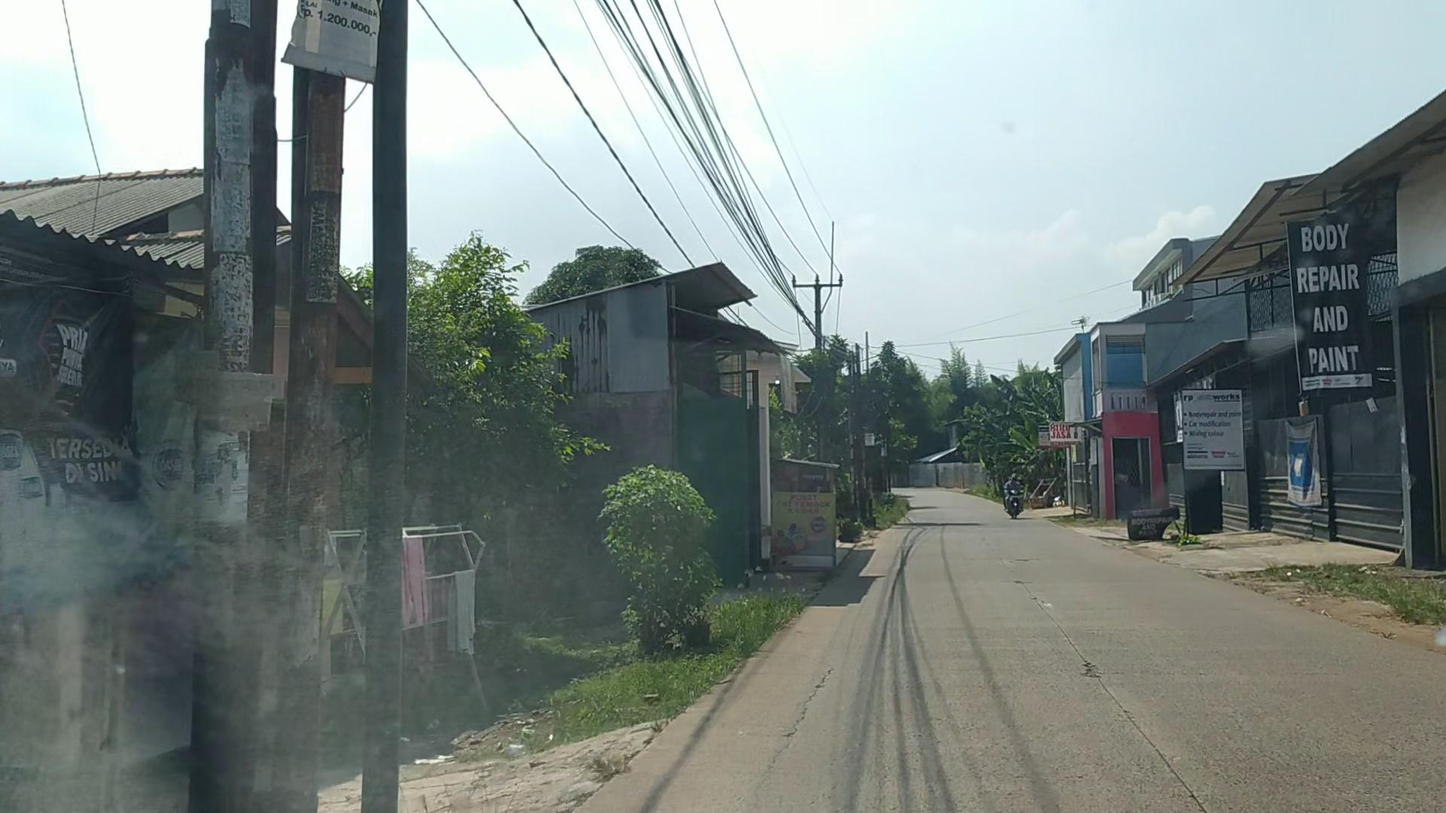pothole: (1078, 660, 1106, 680), (1011, 580, 1026, 585)
